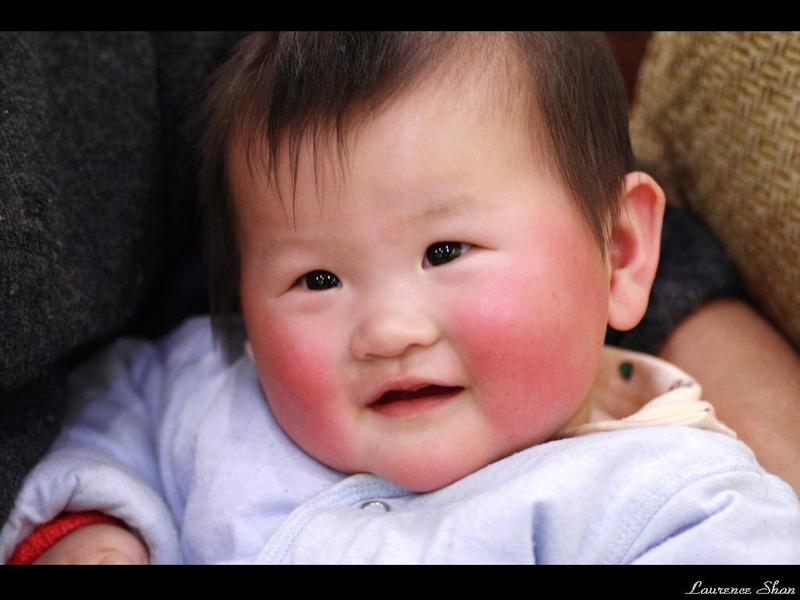person: (41, 26, 800, 565)
